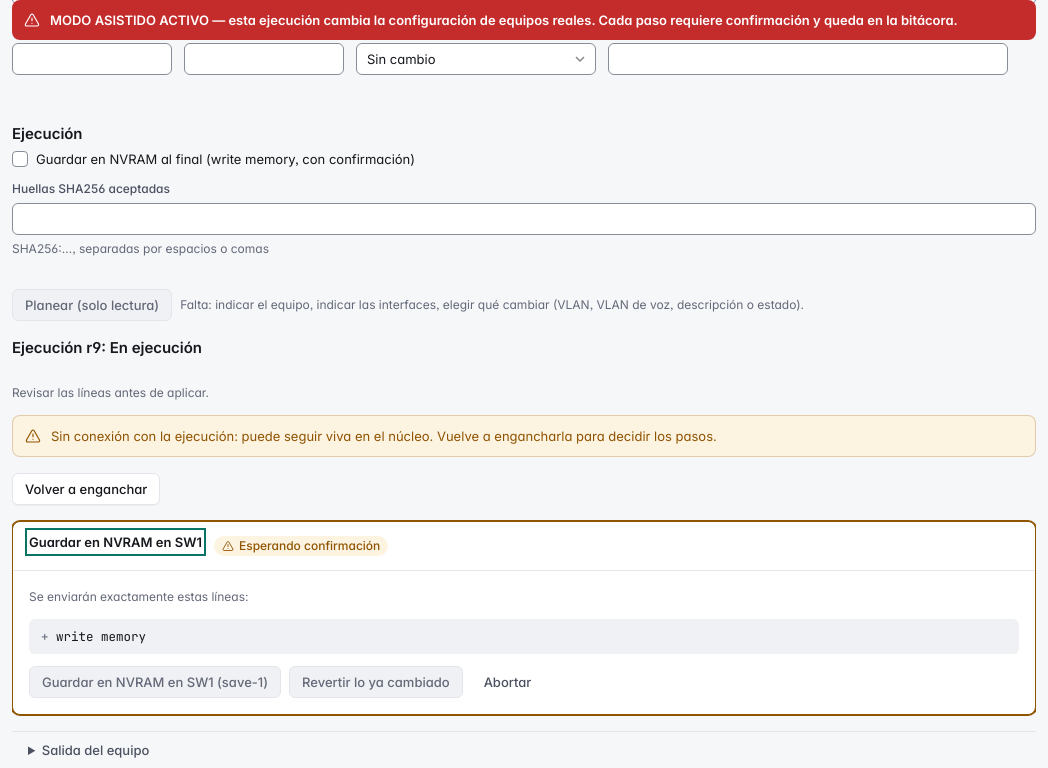
it: un corte del stream con la ejecución viva se reengancha sin duplicar la salida y con tope
Check: the text "Sin conexión con la ejecución" is shown, box [51,428,717,444]
Check: the element named "Paso pendiente save-1" is shown, box [12,521,1036,715]
Click the button "Volver a enganchar". click: (86, 489)
box: [12,473,160,505]
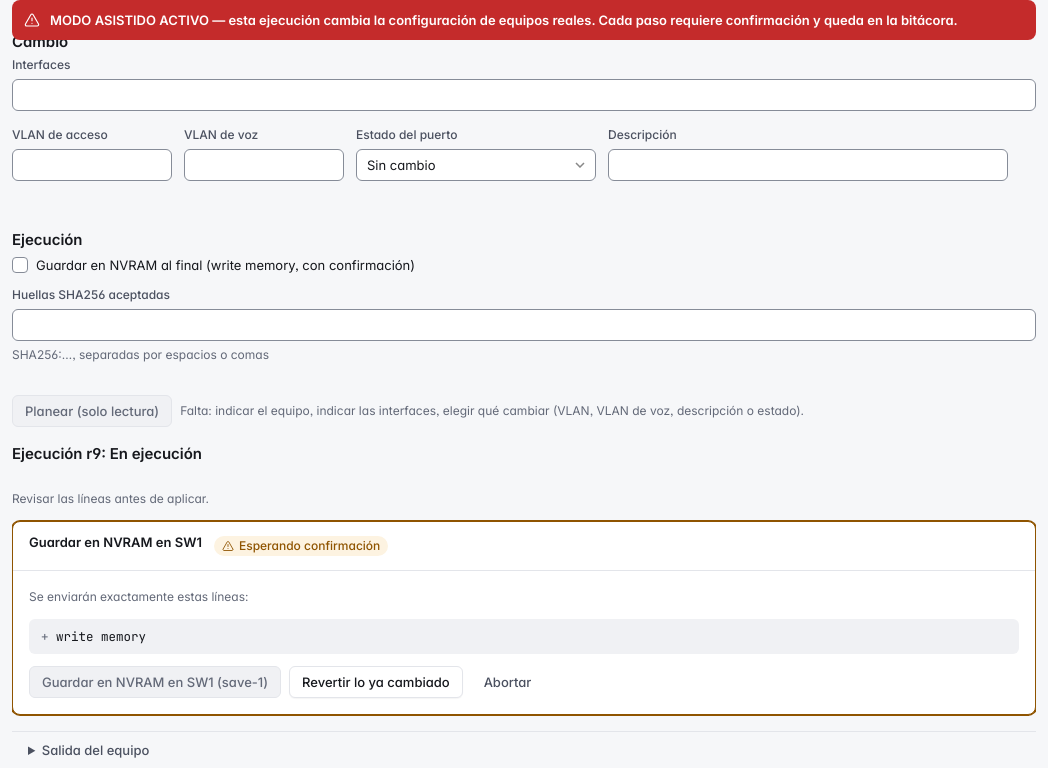
Check: the text "Sin conexión con la ejecución" is gone
